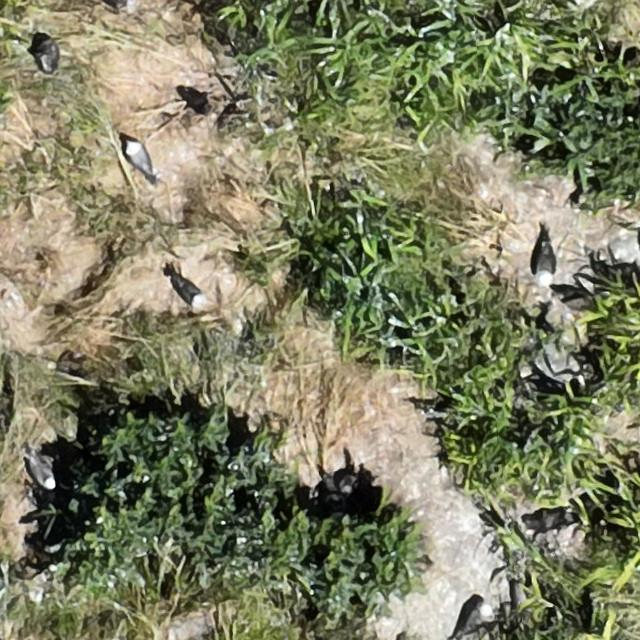umineko: (457, 602, 491, 636), (175, 278, 204, 307), (33, 459, 56, 490), (127, 143, 149, 174), (537, 245, 555, 282)
